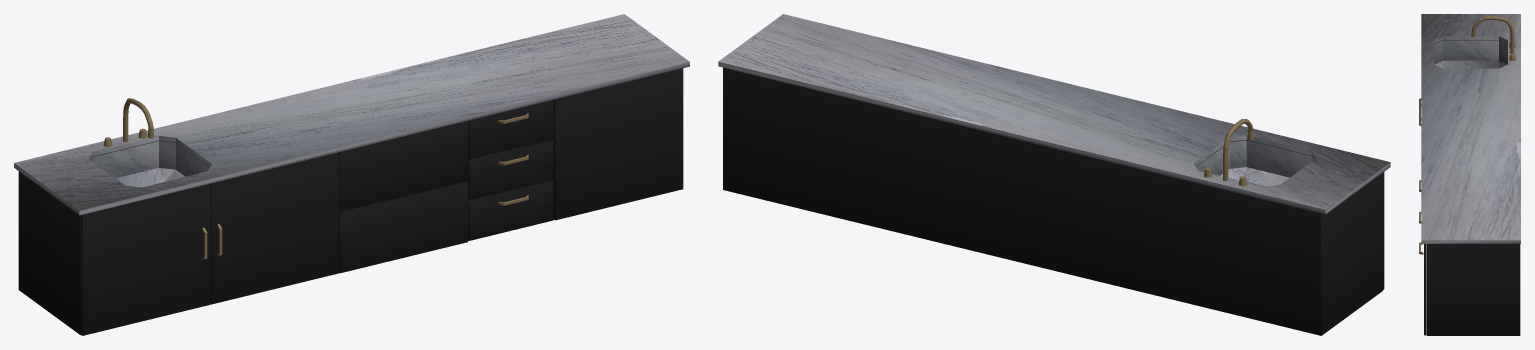
The model's file is lavabo.fbx.
3 views of the same model, side by side, from view 1: azimuth 30°, elevation 25°; view 2: azimuth 150°, elevation 25°; view 3: azimuth 270°, elevation 25° (orthographic). The views are drawn at different scales.
Visible parts, largest first — view 1: lavabo; view 2: lavabo; view 3: lavabo.
Boxes of the visible parts, bbox=[...] form: lavabo: bbox=[14, 14, 689, 335]; lavabo: bbox=[718, 14, 1390, 335]; lavabo: bbox=[1419, 14, 1520, 335].
Size of the model in its own units: 539 by 149 by 102.
Materials: 1 (1 with a texture image).
